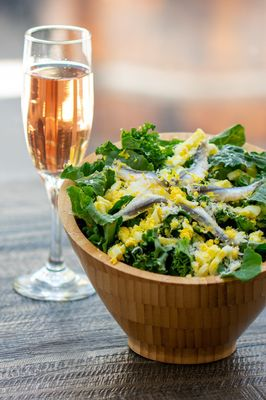curry: (59, 121, 266, 281), (206, 145, 266, 187)
sushi: (54, 111, 266, 366)
